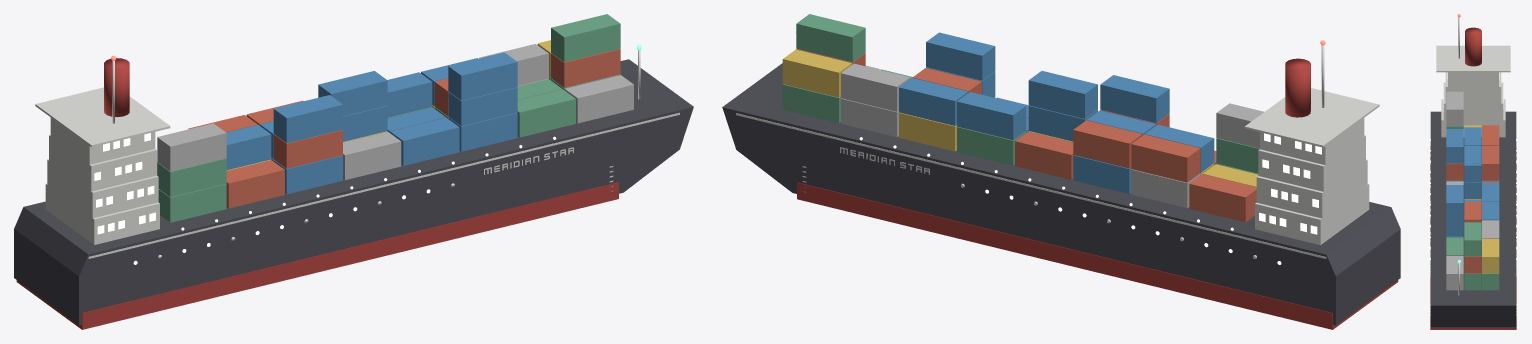
Rendered from ship.glb.
The picture shows the model from 3 angles, left to right: view 1: azimuth 30°, elevation 25°; view 2: azimuth 150°, elevation 25°; view 3: azimuth 270°, elevation 25°; orthographic projection. The views are drawn at different scales.
Visible parts, largest first — view 1: ship; view 2: ship; view 3: ship.
Boxes of the visible parts, x1=… form: ship: x1=14, y1=14, x2=693, y2=329; ship: x1=722, y1=14, x2=1400, y2=329; ship: x1=1429, y1=14, x2=1517, y2=329.
Bounding box in the file's own units: 65.5 × 24.95 × 12.5.
